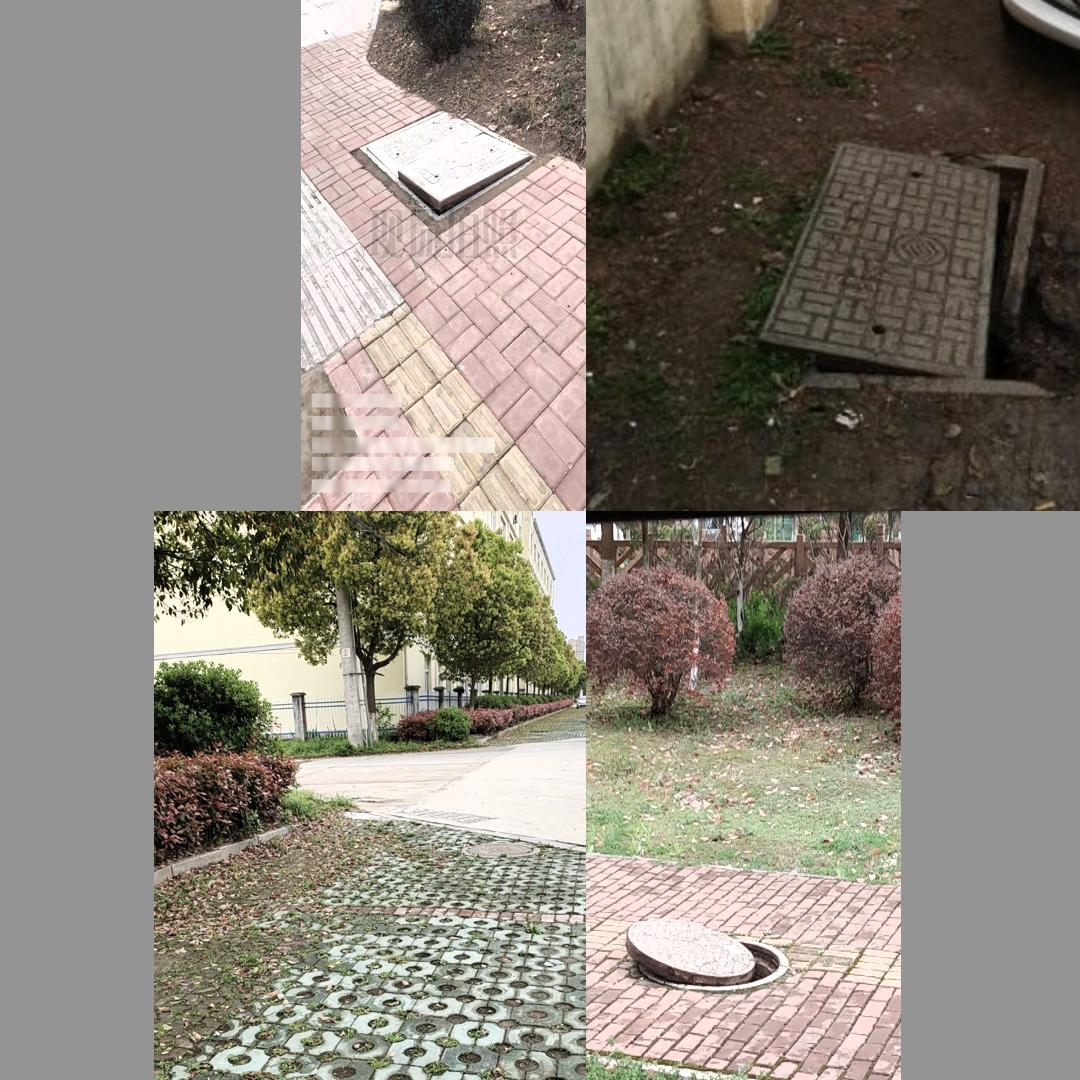uncovered: (754, 141, 1045, 399), (359, 111, 537, 221), (616, 895, 797, 990)
